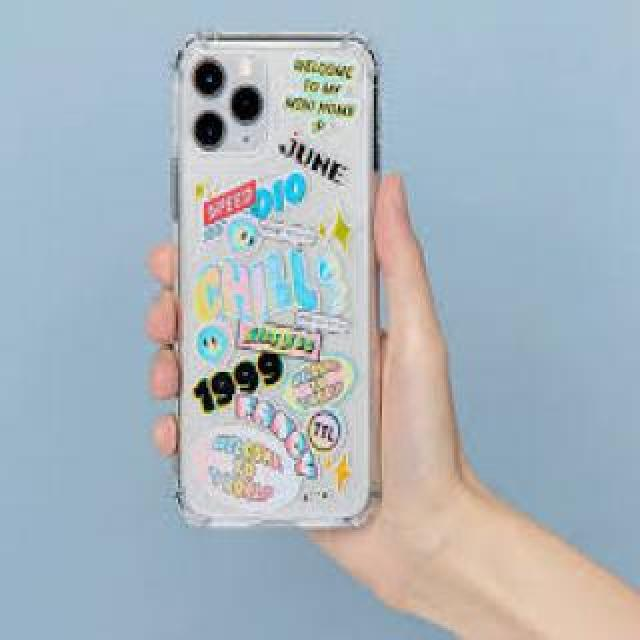smart phone: (143, 19, 400, 504)
